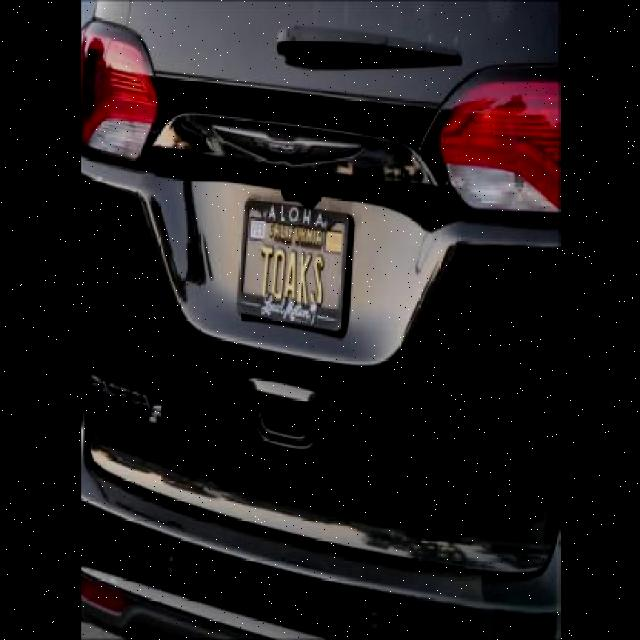licenseplate: (238, 198, 351, 336)
